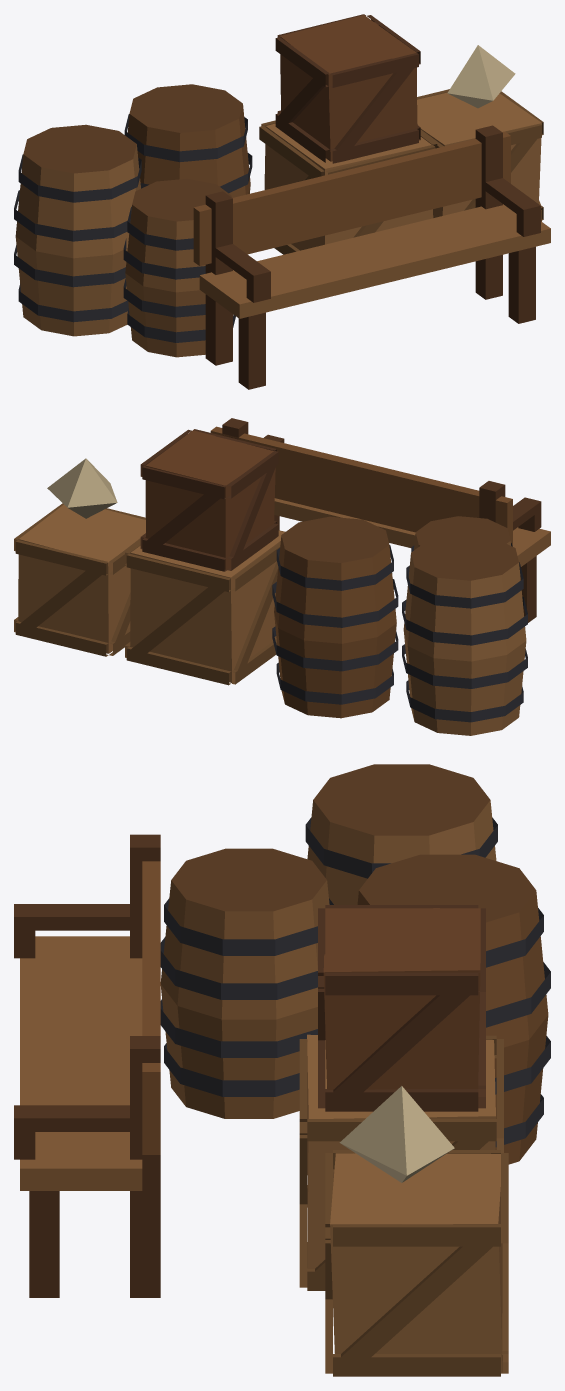
The model's file is town_props_cluster.glb.
3 views of the same model, one above another, from view 1: azimuth 30°, elevation 25°; view 2: azimuth 150°, elevation 25°; view 3: azimuth 270°, elevation 25° (orthographic). The views are drawn at different scales.
Parts seen in each view (by area): view 1: town_props_cluster; view 2: town_props_cluster; view 3: town_props_cluster.
Part boxes in pixels (left/top/right/bottom): town_props_cluster: left=14, top=14, right=550, bottom=389; town_props_cluster: left=14, top=418, right=550, bottom=735; town_props_cluster: left=14, top=764, right=550, bottom=1376.
Bounding box in the file's own units: 2.87 × 1.13 × 1.76.
